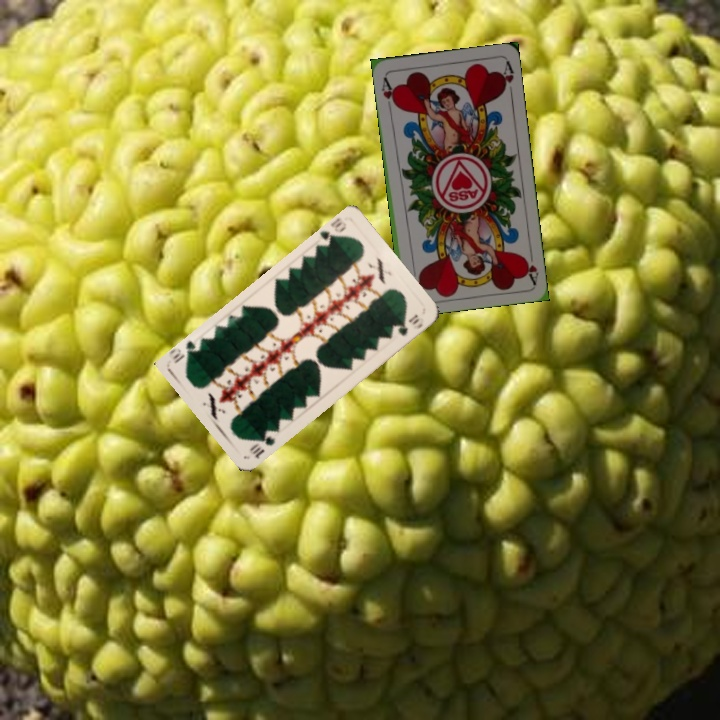G10: (316, 215, 349, 249), (246, 426, 278, 461)
HA: (519, 245, 541, 285), (378, 73, 399, 113)
